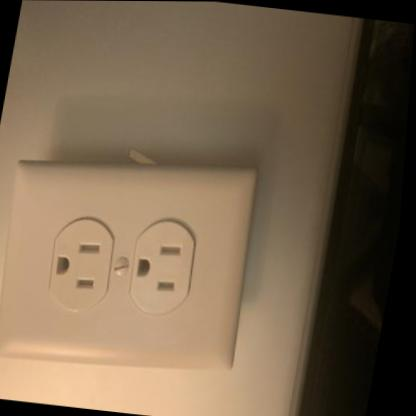OUTLET: (0, 140, 262, 382)
